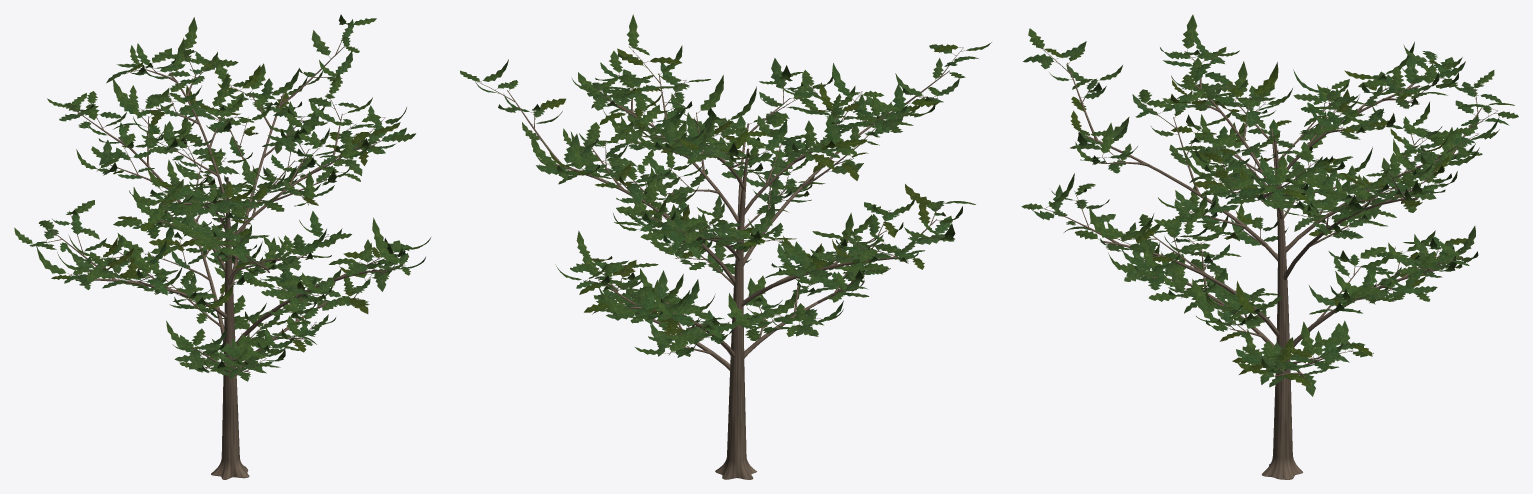
The model's file is n-oak-1.glb.
The picture shows the model from 3 angles, left to right: view 1: azimuth 30°, elevation 25°; view 2: azimuth 150°, elevation 25°; view 3: azimuth 270°, elevation 25°; orthographic projection. The views are drawn at different scales.
Parts seen in each view (by area): view 1: Foliage, Bark; view 2: Foliage, Bark; view 3: Foliage, Bark.
Part boxes in pixels (box(x1,y1,x2,y2)): Foliage: box(14, 14, 430, 381); Bark: box(32, 22, 405, 479); Foliage: box(460, 14, 991, 357); Bark: box(477, 47, 964, 479); Foliage: box(1021, 14, 1518, 396); Bark: box(1040, 48, 1497, 479).
Size of the model in its own units: 2.59 by 2.4 by 2.56.
Materials: 2 (2 with a texture image).
